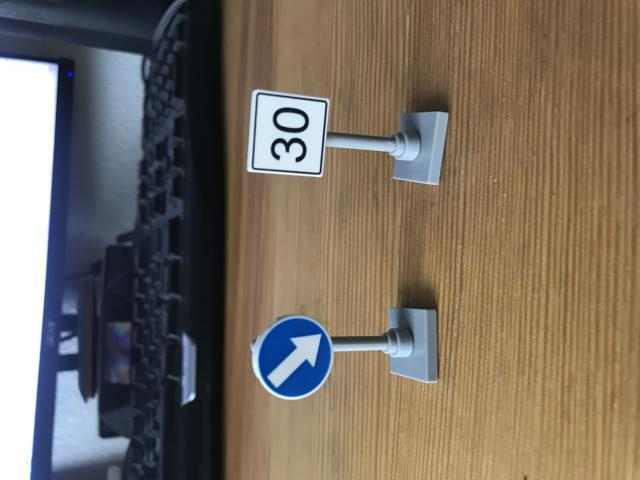rechts halten: (105, 59, 221, 197)
tempolimit 30: (401, 43, 524, 192)
